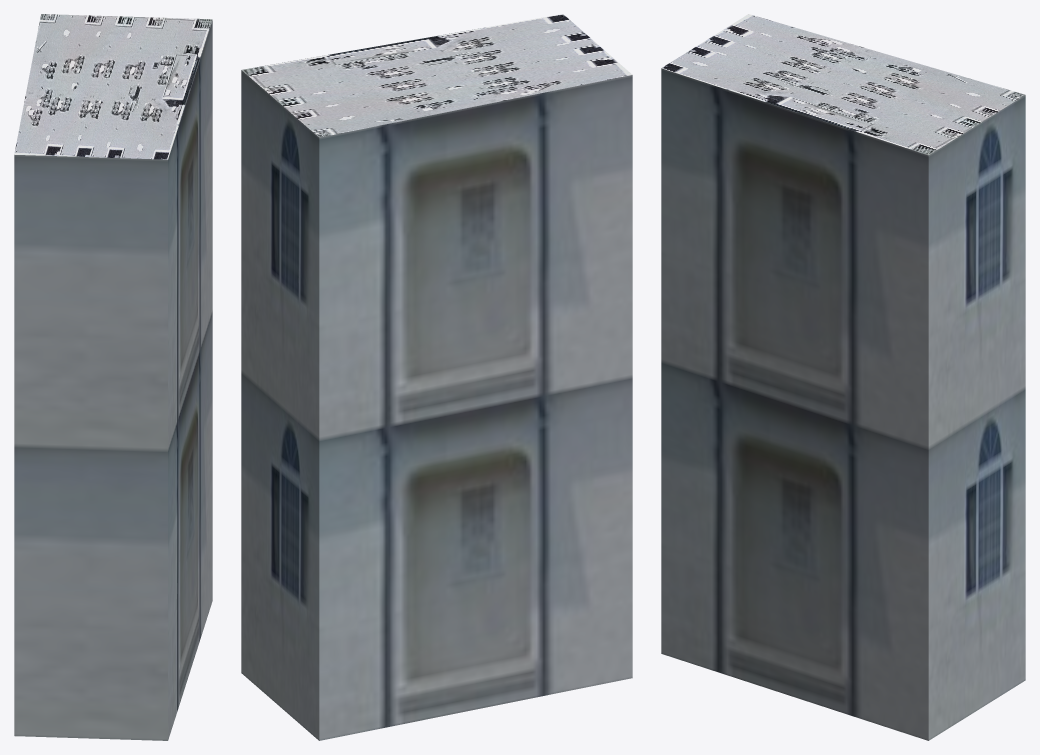
File: ResTex__1099.fbx
3 views of the same model, side by side, from view 1: azimuth 30°, elevation 25°; view 2: azimuth 150°, elevation 25°; view 3: azimuth 270°, elevation 25° (orthographic). The views are drawn at different scales.
Parts seen in each view (by area): view 1: CityEngineMaterial_17_m, CityEngineMaterial_2_m; view 2: CityEngineMaterial_17_m, CityEngineMaterial_2_m; view 3: CityEngineMaterial_17_m, CityEngineMaterial_2_m.
Part boxes in pixels (x1,y1,x2,y2): CityEngineMaterial_17_m: (14, 20, 212, 740); CityEngineMaterial_2_m: (14, 14, 212, 159); CityEngineMaterial_17_m: (241, 70, 632, 740); CityEngineMaterial_2_m: (242, 14, 632, 137); CityEngineMaterial_17_m: (661, 68, 1025, 740); CityEngineMaterial_2_m: (661, 14, 1025, 155).
Size of the model in its own units: 3.11 by 6 by 3.39.
Materials: 2 (2 with a texture image).
